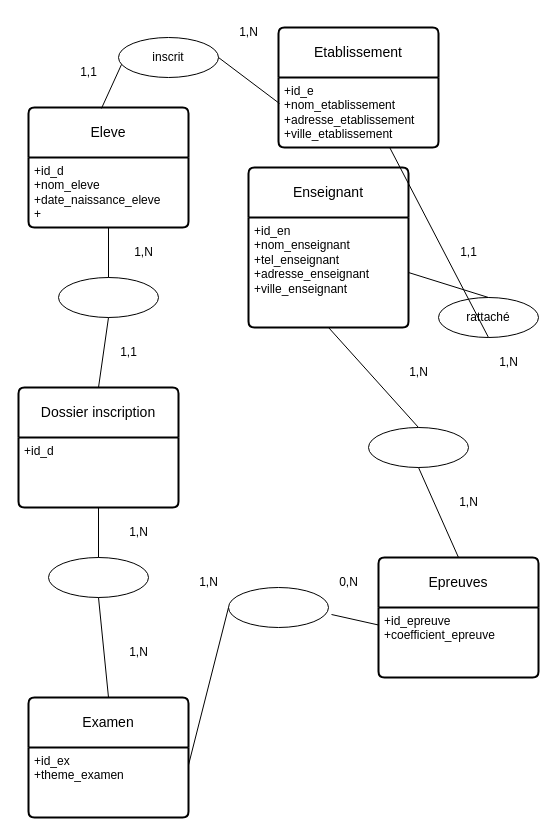
Some shapes in this 556 by 835 pixel diagram are drawn without their labels. Here are the shapes that lost their labels. From the top down, the centre of each, then its label:
At (x=108, y=297): "remplir".
At (x=418, y=447): "corrige".
At (x=98, y=577): "contient".
At (x=278, y=607): "comprend".
